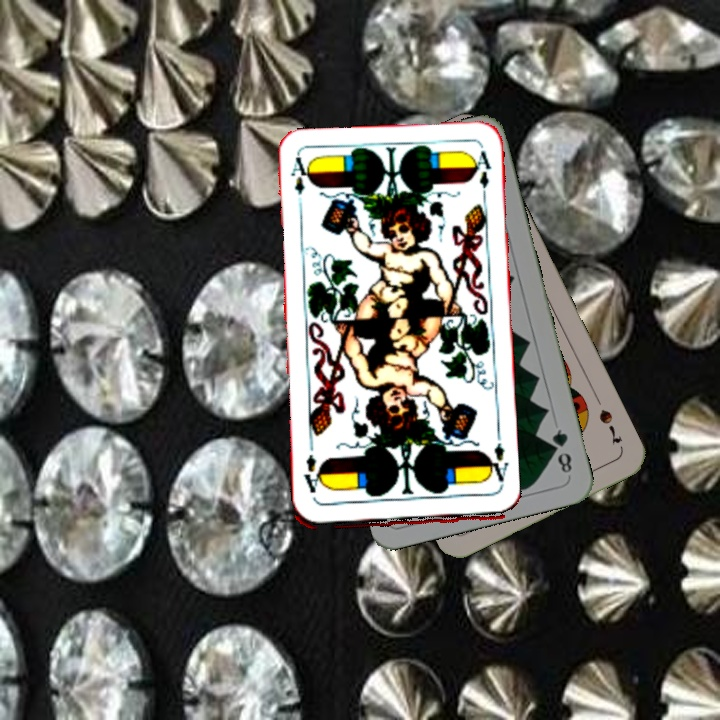EA: (483, 434, 510, 494), (286, 153, 311, 213)
G8: (547, 425, 575, 476)
S7: (594, 405, 624, 447)
